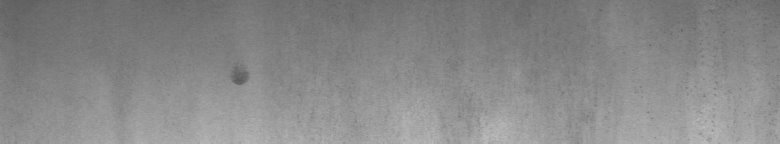fi: (230, 67, 251, 92)
